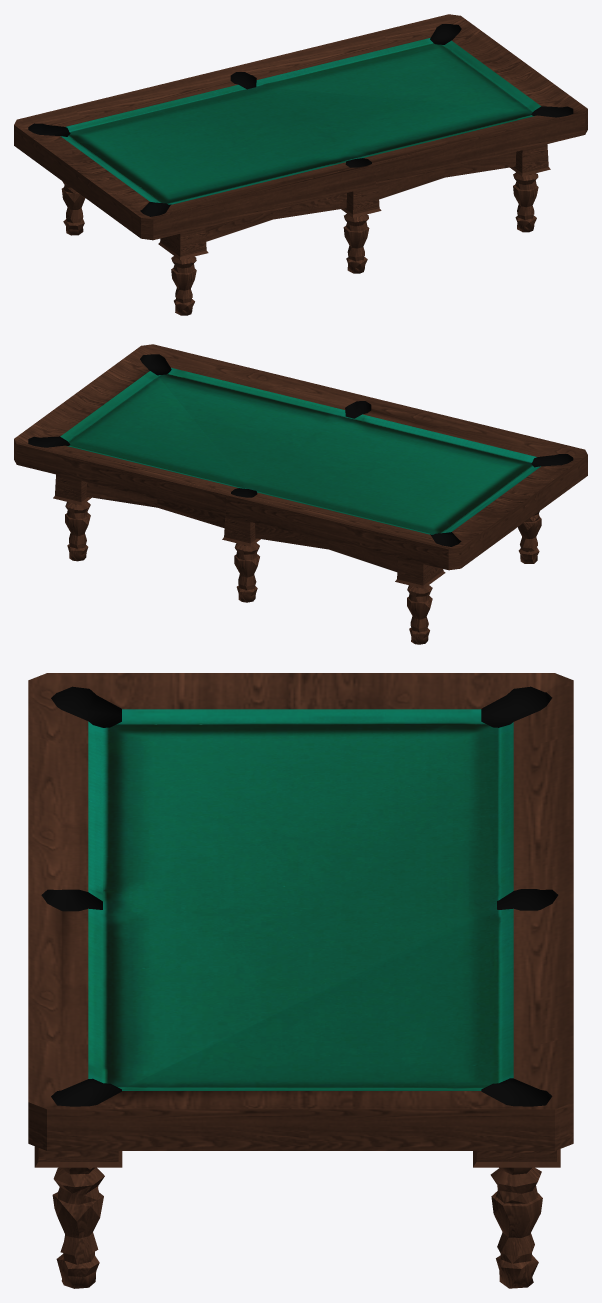
Rendered from b_table.fbx.
3 views of the same model, one above another, from view 1: azimuth 30°, elevation 25°; view 2: azimuth 150°, elevation 25°; view 3: azimuth 270°, elevation 25° (orthographic). The views are drawn at different scales.
Visible parts, largest first — view 1: Circle.005; view 2: Circle.005; view 3: Circle.005.
Boxes of the visible parts, left/top/right/bottom form: Circle.005: left=14, top=14, right=587, bottom=315; Circle.005: left=14, top=344, right=587, bottom=644; Circle.005: left=28, top=673, right=573, bottom=1288.
Size of the model in its own units: 476 by 115 by 252.
